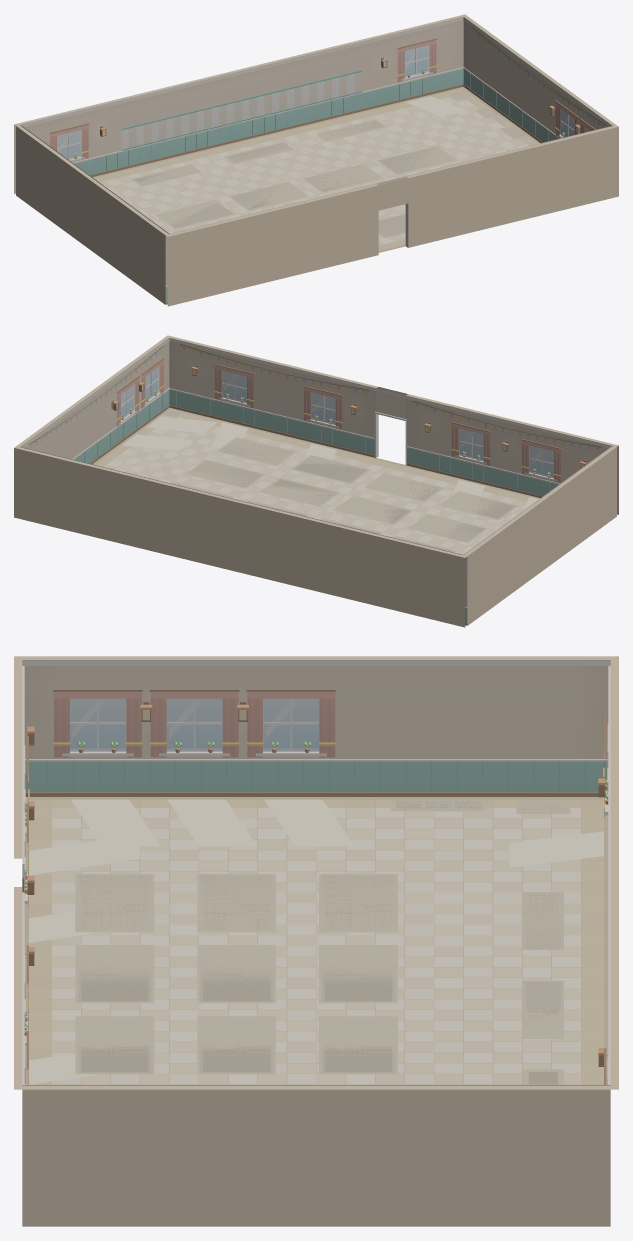
The model's file is rmt_interior_shell.glb.
The picture shows the model from 3 angles, top to bottom: view 1: azimuth 30°, elevation 25°; view 2: azimuth 150°, elevation 25°; view 3: azimuth 270°, elevation 25°; orthographic projection. The views are drawn at different scales.
Parts seen in each view (by area): view 1: dinding_selatan, dinding_utara, lantai, dinding_barat, dinding_timur; view 2: dinding_utara, dinding_selatan, lantai, dinding_barat, dinding_timur; view 3: lantai, dinding_timur, dinding_barat, dinding_selatan, dinding_utara.
Part boxes in pixels (box(x1,y1,x2,y2)): dinding_selatan: box(165, 125, 618, 306); dinding_utara: box(14, 14, 466, 193); lantai: box(92, 86, 540, 252); dinding_barat: box(16, 125, 169, 304); dinding_timur: box(462, 16, 616, 143); dinding_utara: box(14, 446, 467, 627); dinding_selatan: box(166, 335, 618, 514); lantai: box(92, 407, 540, 554); dinding_barat: box(463, 446, 616, 625); dinding_timur: box(16, 337, 170, 464); lantai: box(24, 797, 608, 1084); dinding_timur: box(22, 1085, 610, 1226); dinding_barat: box(22, 656, 610, 796); dinding_selatan: box(14, 656, 34, 1089); dinding_utara: box(598, 656, 618, 1089).
Bounding box in the file's own units: 24.4 × 3.6 × 14.4.
